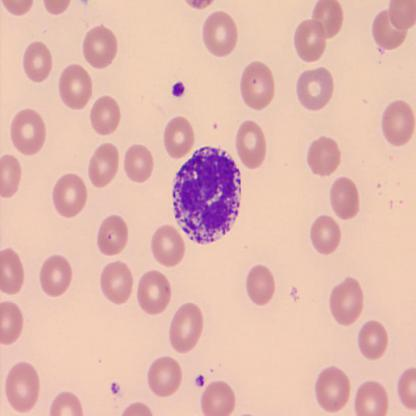Basophil: (171, 144, 243, 248)
